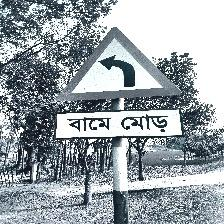Left-Turn: (55, 27, 186, 143)
